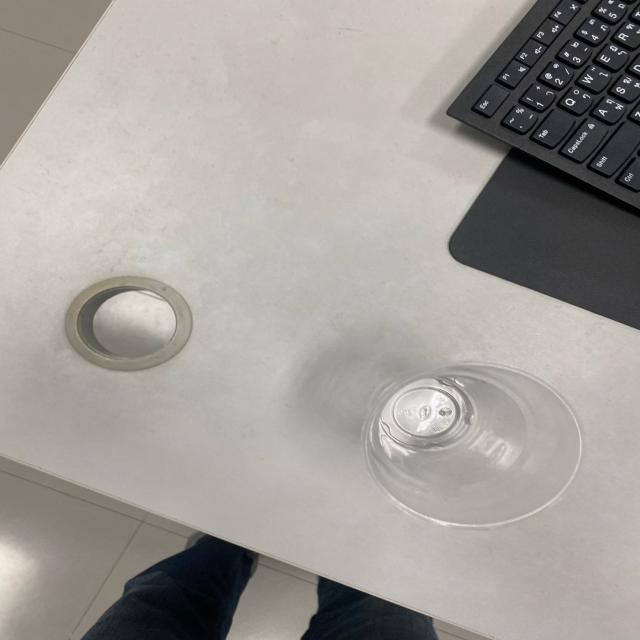glass: (362, 361, 590, 534)
